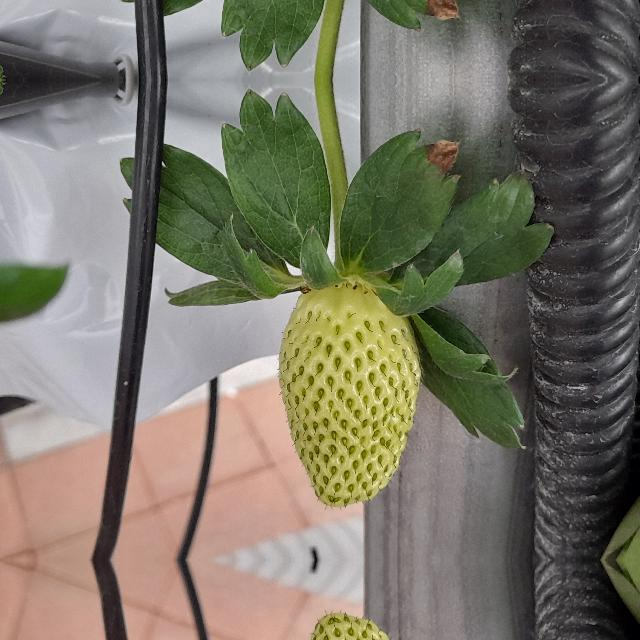Health_25: (278, 282, 420, 506)
